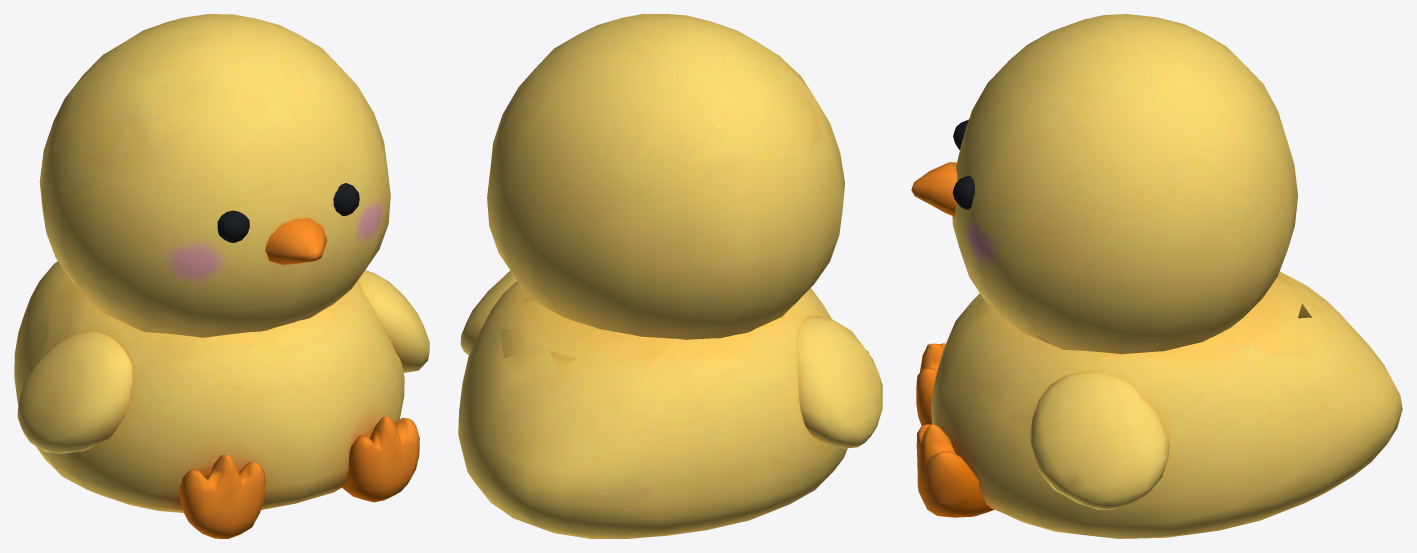
Rendered from pet-chick.glb.
The picture shows the model from 3 angles, left to right: view 1: azimuth 30°, elevation 25°; view 2: azimuth 150°, elevation 25°; view 3: azimuth 270°, elevation 25°; orthographic projection. The views are drawn at different scales.
Visible parts, largest first — view 1: geometry_0; view 2: geometry_0; view 3: geometry_0.
Part boxes in pixels (x1=…): geometry_0: x1=14, y1=14, x2=429, y2=538; geometry_0: x1=458, y1=14, x2=882, y2=538; geometry_0: x1=911, y1=14, x2=1402, y2=538.
Bounding box in the file's own units: 0.9526 × 0.9992 × 0.9994.
Materials: 1 (1 with a texture image).
